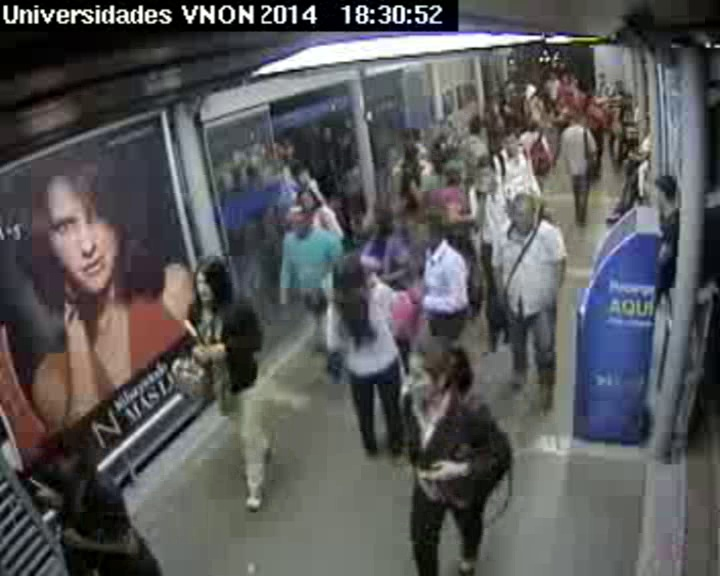person: (404, 340, 472, 411), (37, 442, 95, 490), (193, 256, 236, 303), (332, 253, 370, 294), (508, 193, 542, 233), (362, 204, 395, 240), (419, 218, 449, 250), (653, 174, 681, 206), (496, 127, 524, 156), (473, 156, 500, 186), (286, 203, 309, 230), (296, 188, 321, 211), (441, 167, 465, 190), (401, 145, 423, 168), (291, 163, 311, 185), (468, 115, 487, 137), (568, 113, 585, 128), (525, 118, 539, 134), (526, 84, 540, 98), (547, 71, 560, 85), (591, 88, 604, 100), (597, 71, 609, 83), (502, 95, 513, 105), (613, 79, 623, 89), (490, 103, 500, 113), (506, 80, 516, 90), (558, 95, 567, 105), (624, 96, 633, 106), (560, 73, 568, 83), (545, 101, 553, 110)
